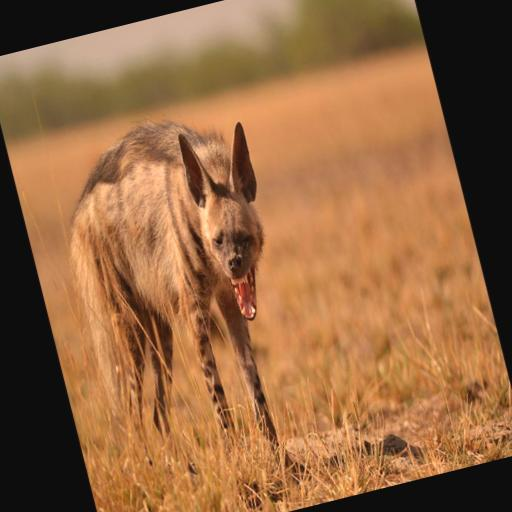hyenas: (40, 92, 360, 498)
